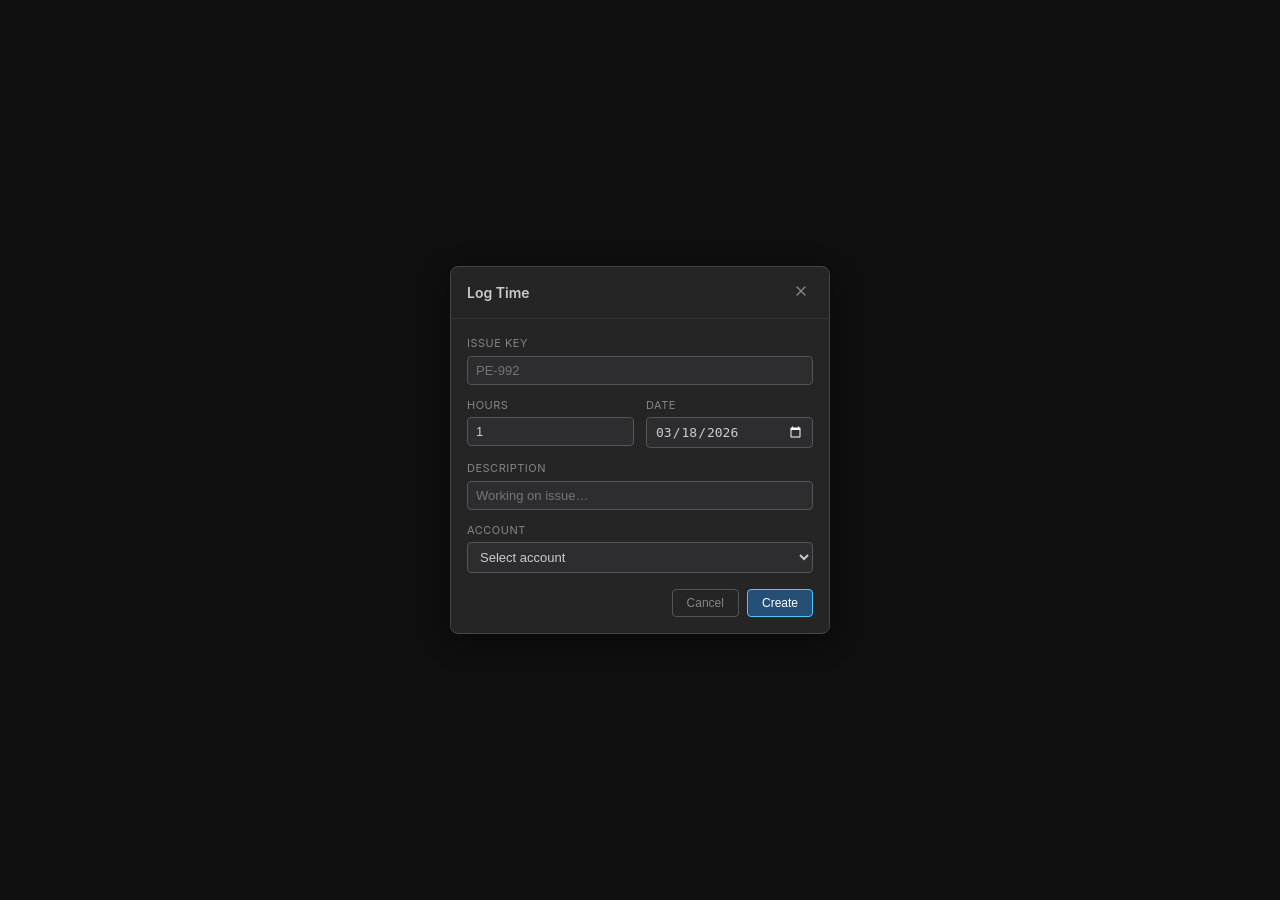
Test case: TempoWorklogEditor › validates hours must be at most 24
In the field labelled "Issue Key": (640, 370) [467,356,813,384], type "PE-1"
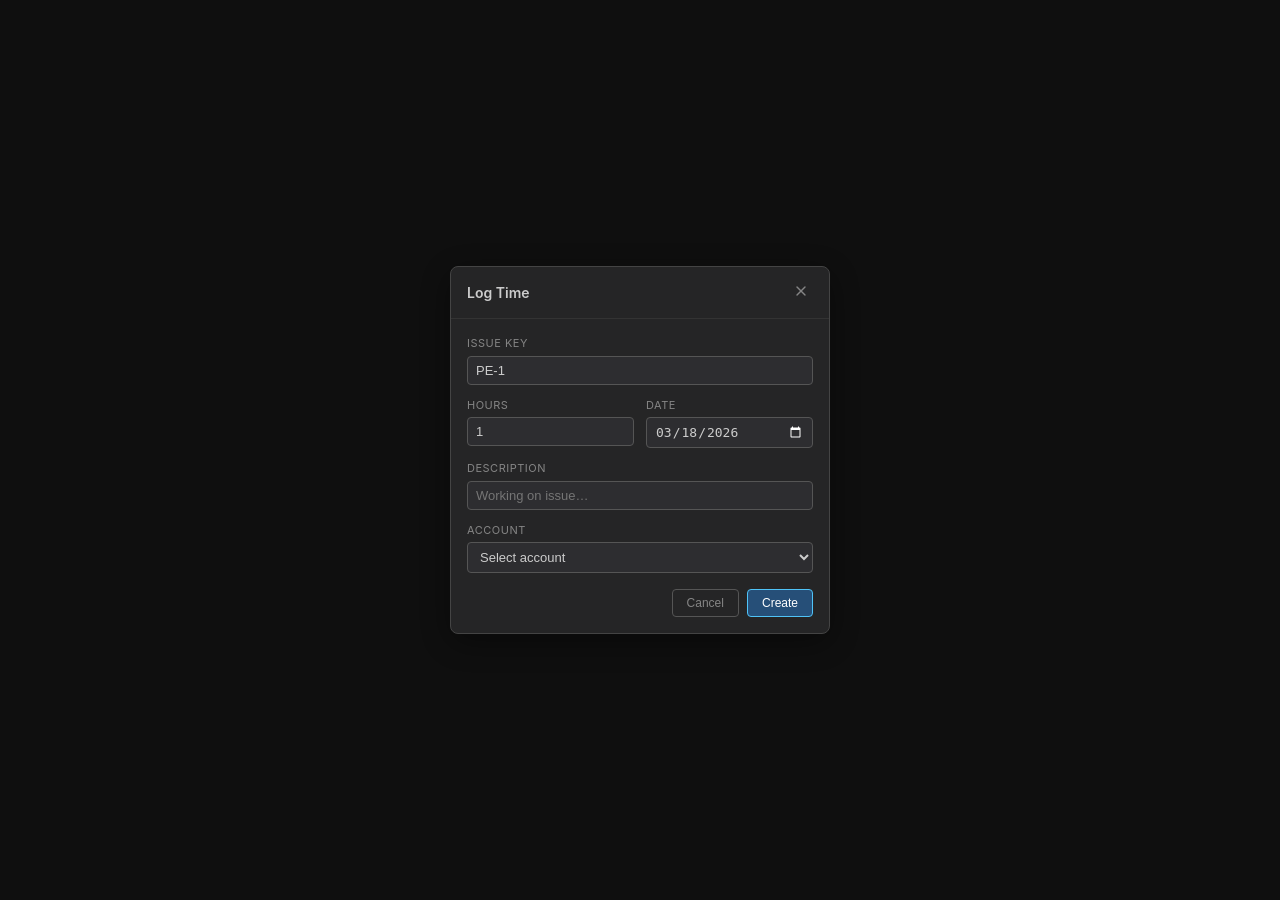
Replace the text in the number field labelled "Hours" with "25": (550, 432) [467,417,634,446]
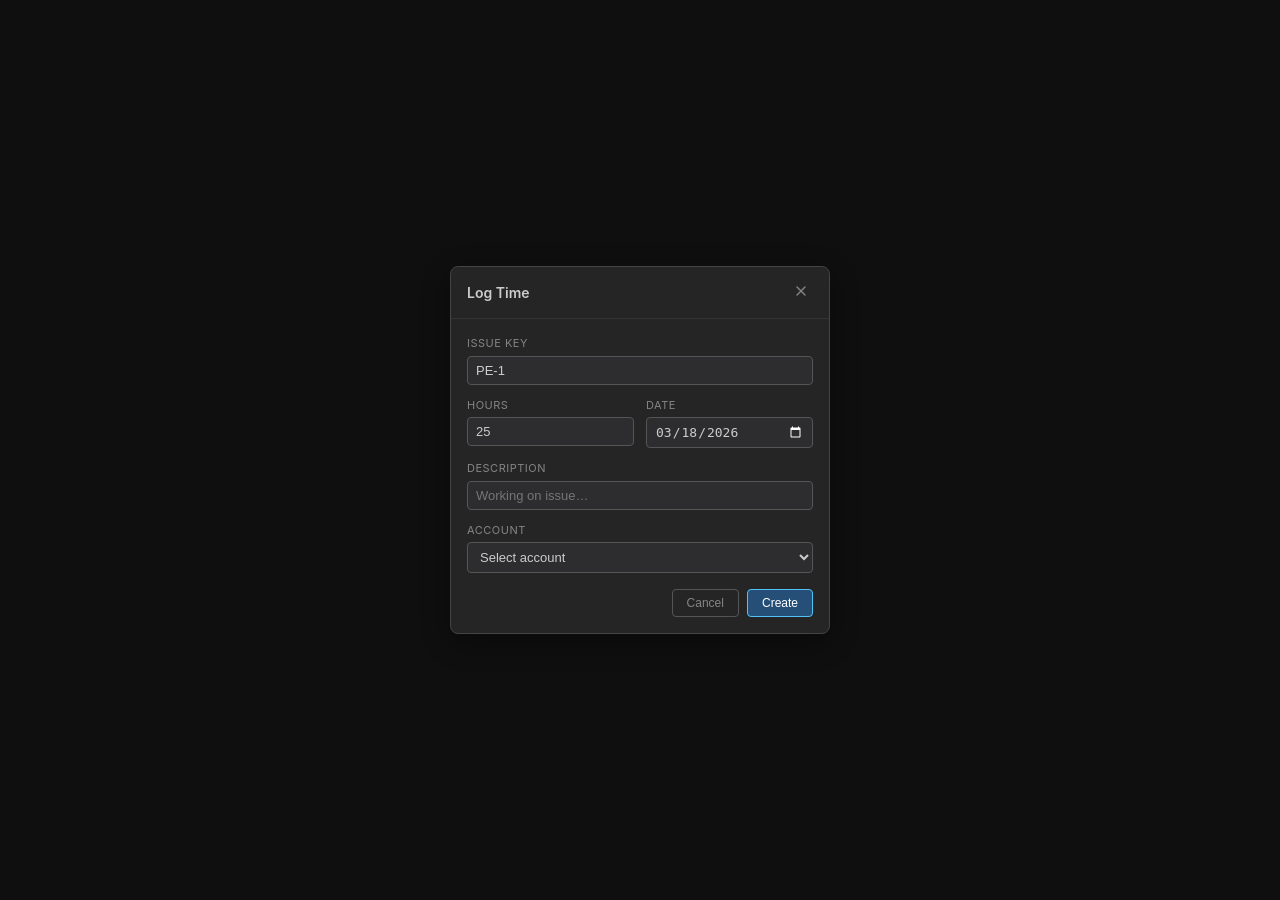
Use fireEvent.submit to bypass HTML5 constraint validation on number input max
Submit the form labelled "Issue Key", box [451,319,829,633]
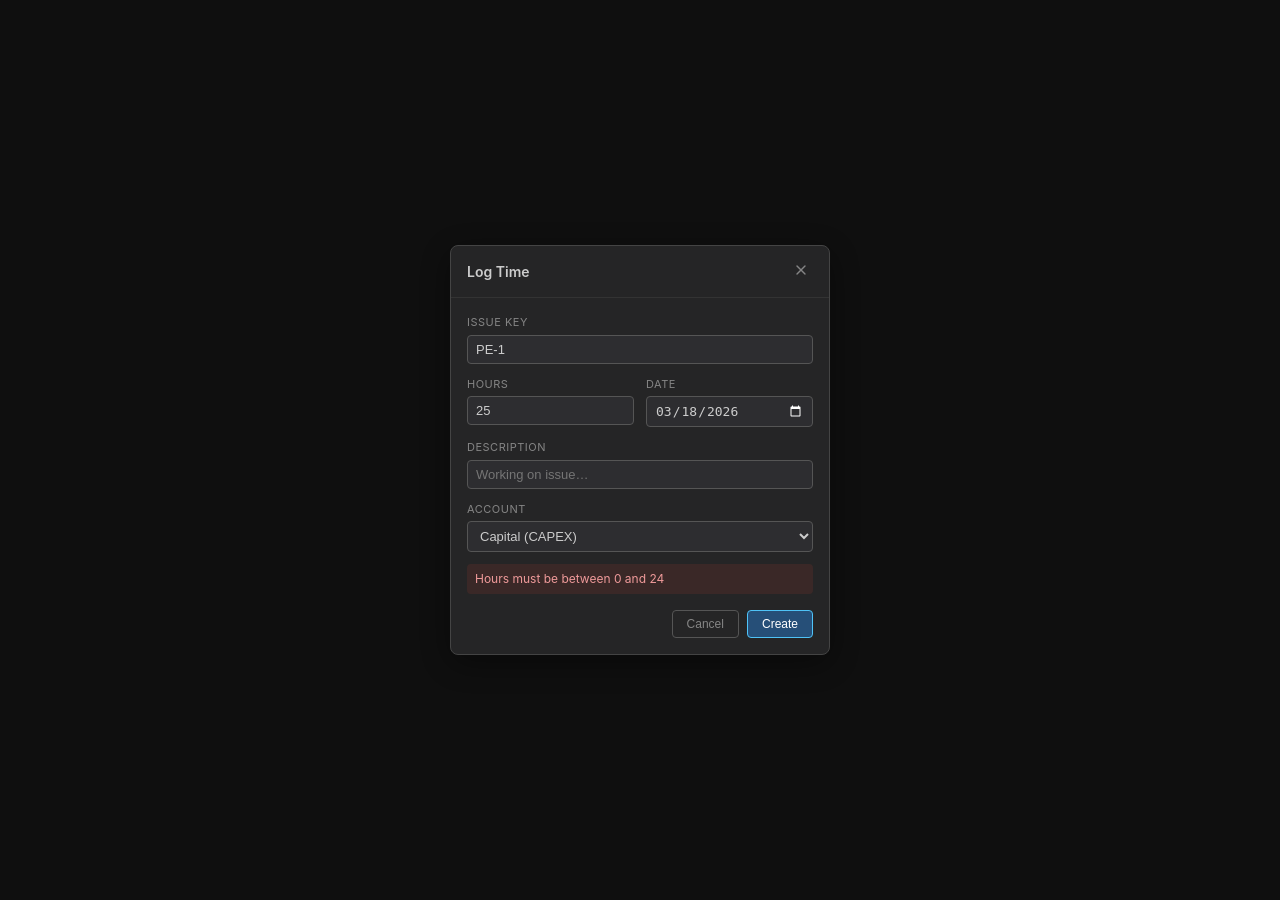
Result: the text "Hours must be between 0 and 24" is shown at [467,564,813,594]
